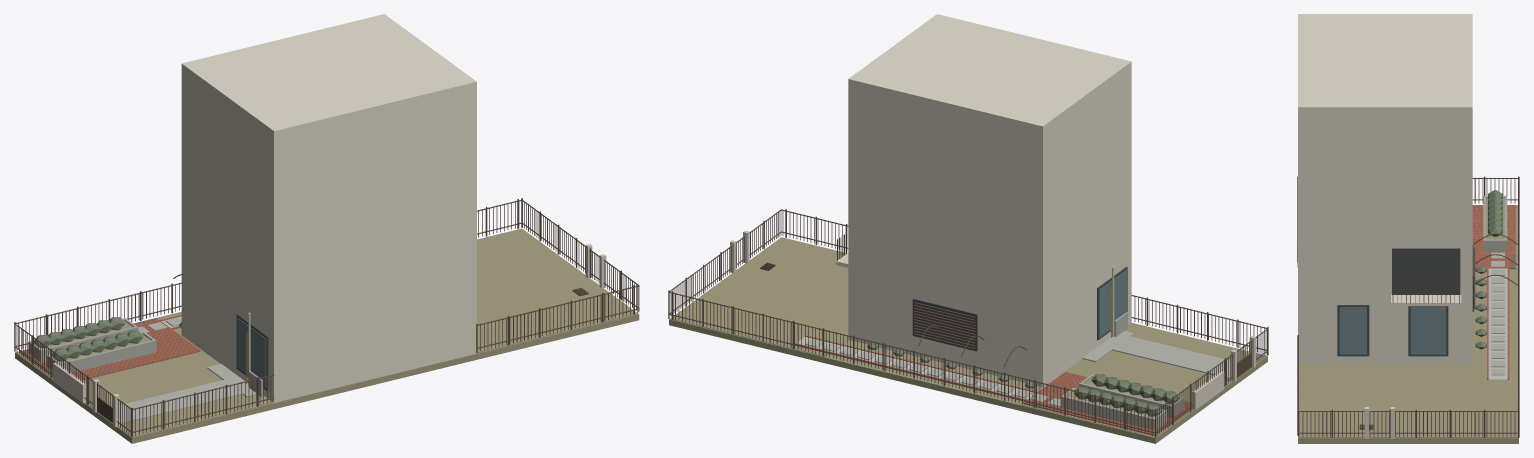
File: existing-site.glb
The picture shows the model from 3 angles, left to right: view 1: azimuth 30°, elevation 25°; view 2: azimuth 150°, elevation 25°; view 3: azimuth 270°, elevation 25°; orthographic projection. The views are drawn at different scales.
Parts seen in each view (by area): view 1: Unsurveyed_Building_Mass, Bare_Soil_Not_New_Lawn, Boundary_Fences_Approximate_metal, Unpaved_Ground, R0_Flat_Datum, Footprint_Proxy_Unsurveyed, Existing_Vegetation_Abstract_Cover_Only_plant, Grey_Access_Route_Approximate, Red_Brick_Joints_Indicative_brick, Visible_planter_Openings_glass, Long_Wall_Inner, Gates_And_Low_Walls_Approximate_wall; view 2: Unsurveyed_Building_Mass, Boundary_Fences_Approximate_metal, Bare_Soil_Not_New_Lawn, R0_Flat_Datum, Unpaved_Ground, Existing_Vegetation_Abstract_Cover_Only_plant, Grey_Access_Route_Approximate, Footprint_Proxy_Unsurveyed, Wall_Services_Visible_Proxies_dark, Wall_Services_Visible_Proxies_metal, Zone_3_Steps_And_Gravel_slab, Red_Brick_Joints_Indicative_brick (+5 smaller); view 3: Unsurveyed_Building_Mass, Bare_Soil_Not_New_Lawn, Visible_bare_Openings_dark, Boundary_Fences_Approximate_metal, R0_Flat_Datum, Visible_bare_Openings_glass, Zone_3_Steps_And_Gravel_slab, Footprint_Proxy_Unsurveyed, Red_Brick_Joints_Indicative_brick, Zone_3_Steps_And_Gravel_gravel, Existing_Vegetation_Abstract_Cover_Only_plant, Visible_bare_Openings_stone (+7 smaller).
Boxes of the visible parts, bbox=[...] form: Unsurveyed_Building_Mass: bbox=[181, 14, 476, 394]; Bare_Soil_Not_New_Lawn: bbox=[477, 228, 637, 352]; Boundary_Fences_Approximate_metal: bbox=[14, 198, 639, 437]; Unpaved_Ground: bbox=[16, 319, 272, 437]; R0_Flat_Datum: bbox=[15, 231, 639, 443]; Footprint_Proxy_Unsurveyed: bbox=[181, 327, 476, 402]; Existing_Vegetation_Abstract_Cover_Only_plant: bbox=[34, 317, 181, 361]; Grey_Access_Route_Approximate: bbox=[112, 380, 242, 423]; Red_Brick_Joints_Indicative_brick: bbox=[20, 318, 200, 379]; Visible_planter_Openings_glass: bbox=[237, 317, 266, 388]; Long_Wall_Inner: bbox=[58, 339, 156, 372]; Gates_And_Low_Walls_Approximate_wall: bbox=[53, 362, 119, 427]; Unsurveyed_Building_Mass: bbox=[848, 14, 1131, 378]; Boundary_Fences_Approximate_metal: bbox=[668, 209, 1268, 437]; Bare_Soil_Not_New_Lawn: bbox=[670, 237, 848, 356]; R0_Flat_Datum: bbox=[669, 241, 1267, 443]; Unpaved_Ground: bbox=[1020, 323, 1266, 437]; Existing_Vegetation_Abstract_Cover_Only_plant: bbox=[867, 342, 1179, 416]; Grey_Access_Route_Approximate: bbox=[1112, 336, 1230, 378]; Footprint_Proxy_Unsurveyed: bbox=[848, 314, 1131, 387]; Wall_Services_Visible_Proxies_dark: bbox=[912, 298, 977, 351]; Wall_Services_Visible_Proxies_metal: bbox=[913, 302, 975, 349]; Zone_3_Steps_And_Gravel_slab: bbox=[805, 339, 1060, 406]; Red_Brick_Joints_Indicative_brick: bbox=[1023, 371, 1191, 434]; Unsurveyed_Building_Mass: bbox=[1298, 14, 1472, 355]; Bare_Soil_Not_New_Lawn: bbox=[1299, 363, 1517, 437]; Visible_bare_Openings_dark: bbox=[1337, 248, 1460, 356]; Boundary_Fences_Approximate_metal: bbox=[1297, 176, 1519, 437]; R0_Flat_Datum: bbox=[1298, 270, 1518, 443]; Visible_bare_Openings_glass: bbox=[1339, 307, 1445, 354]; Zone_3_Steps_And_Gravel_slab: bbox=[1491, 252, 1504, 375]; Footprint_Proxy_Unsurveyed: bbox=[1299, 355, 1472, 363]; Red_Brick_Joints_Indicative_brick: bbox=[1472, 205, 1515, 268]; Zone_3_Steps_And_Gravel_gravel: bbox=[1488, 268, 1507, 379]; Existing_Vegetation_Abstract_Cover_Only_plant: bbox=[1475, 189, 1502, 349]; Visible_bare_Openings_stone: bbox=[1391, 294, 1461, 306].
Bounding box in the file's own units: 25.22 × 13.1 × 10.06.
